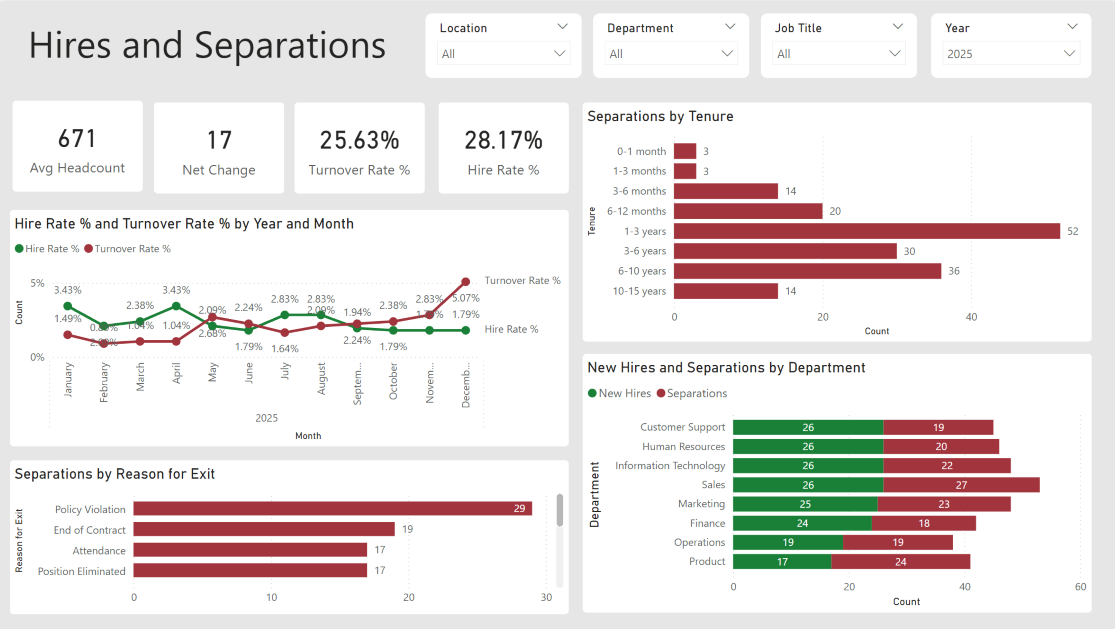

The dashboard page shown, as its layout file describes it:
{"tool":"powerbi","page":{"name":"HIRES & SEPARATIONS","canvas":[1280,720],"ordinal":1},"visuals":[{"type":"card","fields":{"Values":["*Measures.Average Headcount"]},"box":[14.7,113.3,150,105],"z":0},{"type":"lineChart","fields":{"Y":["*Measures.Hire Rate %","*Measures.Turnover Rate %"],"Category":["dimDate.Date.Variation.Date Hierarchy.Year","dimDate.Date.Variation.Date Hierarchy.Month"]},"box":[11.7,238.3,641.7,271.7],"z":1000},{"type":"card","fields":{"Values":["*Measures.Net Change"]},"box":[176.7,115,150,105],"z":2000},{"type":"card","fields":{"Values":["*Measures.Turnover Rate %"]},"box":[338.3,115,150,105],"z":3000},{"type":"card","fields":{"Values":["*Measures.Hire Rate %"]},"box":[503.3,115,150,105],"z":4000},{"type":"textbox","box":[11.7,13.3,453.3,93.3],"z":5000},{"type":"barChart","fields":{"Category":["Employees.Department"],"Y":["*Measures.New Hires","*Measures.Terminations"]},"box":[668.3,403.3,583.3,296.7],"z":6000},{"type":"barChart","fields":{"Y":["*Measures.Terminations"],"Category":["Employees.Tenure"]},"box":[668.3,115,583.3,275],"z":7000},{"type":"slicer","fields":{"Values":["dimDate.Year"]},"box":[1066.7,13.3,185,75],"z":8000},{"type":"slicer","fields":{"Values":["Employees.Job Title"]},"box":[871.7,13.3,180,75],"z":9000},{"type":"slicer","fields":{"Values":["Employees.Department"]},"box":[680,13.3,180,75],"z":10000},{"type":"slicer","fields":{"Values":["Employees.Location"]},"box":[488.3,13.3,180,75],"z":11000},{"type":"barChart","fields":{"Y":["*Measures.Terminations"],"Category":["Employees.Reason for Exit"]},"box":[11.7,525,641.7,176.7],"z":12000}]}

Visuals, with their boxes in screenshot pixels (x1, y1, x2, y2), scaled from the page's 1280x720 canvas onto the 1115x629 screenshot:
card - *Measures.Average Headcount: (13,99,143,191)
lineChart - *Measures.Hire Rate % x *Measures.Turnover Rate %: (10,208,569,446)
card - *Measures.Net Change: (154,100,285,192)
card - *Measures.Turnover Rate %: (295,100,425,192)
card - *Measures.Hire Rate %: (438,100,569,192)
textbox: (10,12,405,93)
barChart - Employees.Department x *Measures.New Hires: (582,352,1090,612)
barChart - *Measures.Terminations x Employees.Tenure: (582,100,1090,341)
slicer - dimDate.Year: (929,12,1090,77)
slicer - Employees.Job Title: (759,12,916,77)
slicer - Employees.Department: (592,12,749,77)
slicer - Employees.Location: (425,12,582,77)
barChart - *Measures.Terminations x Employees.Reason for Exit: (10,459,569,613)
